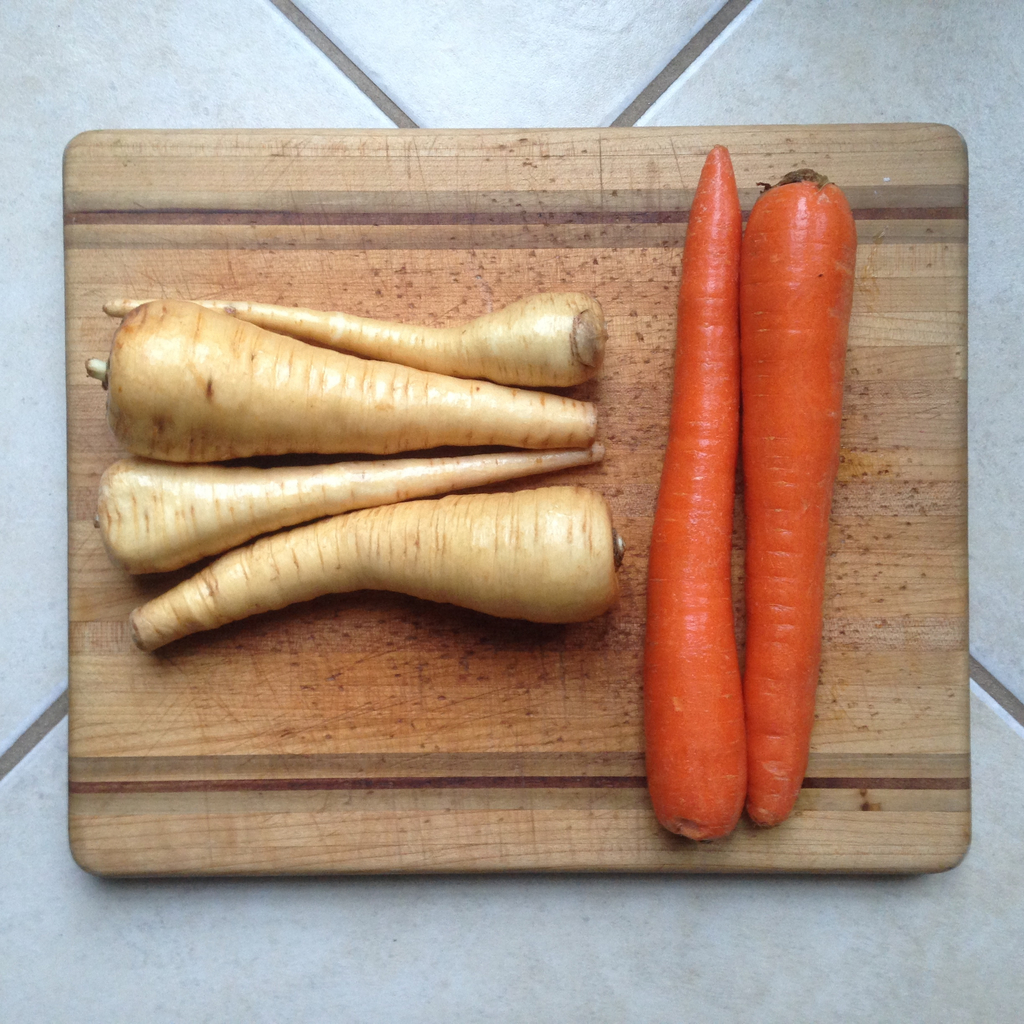Carrot: (738, 167, 859, 829), (646, 143, 750, 846)
